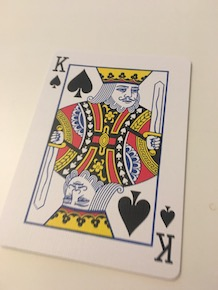KingOfSpades: (1, 45, 196, 281)
